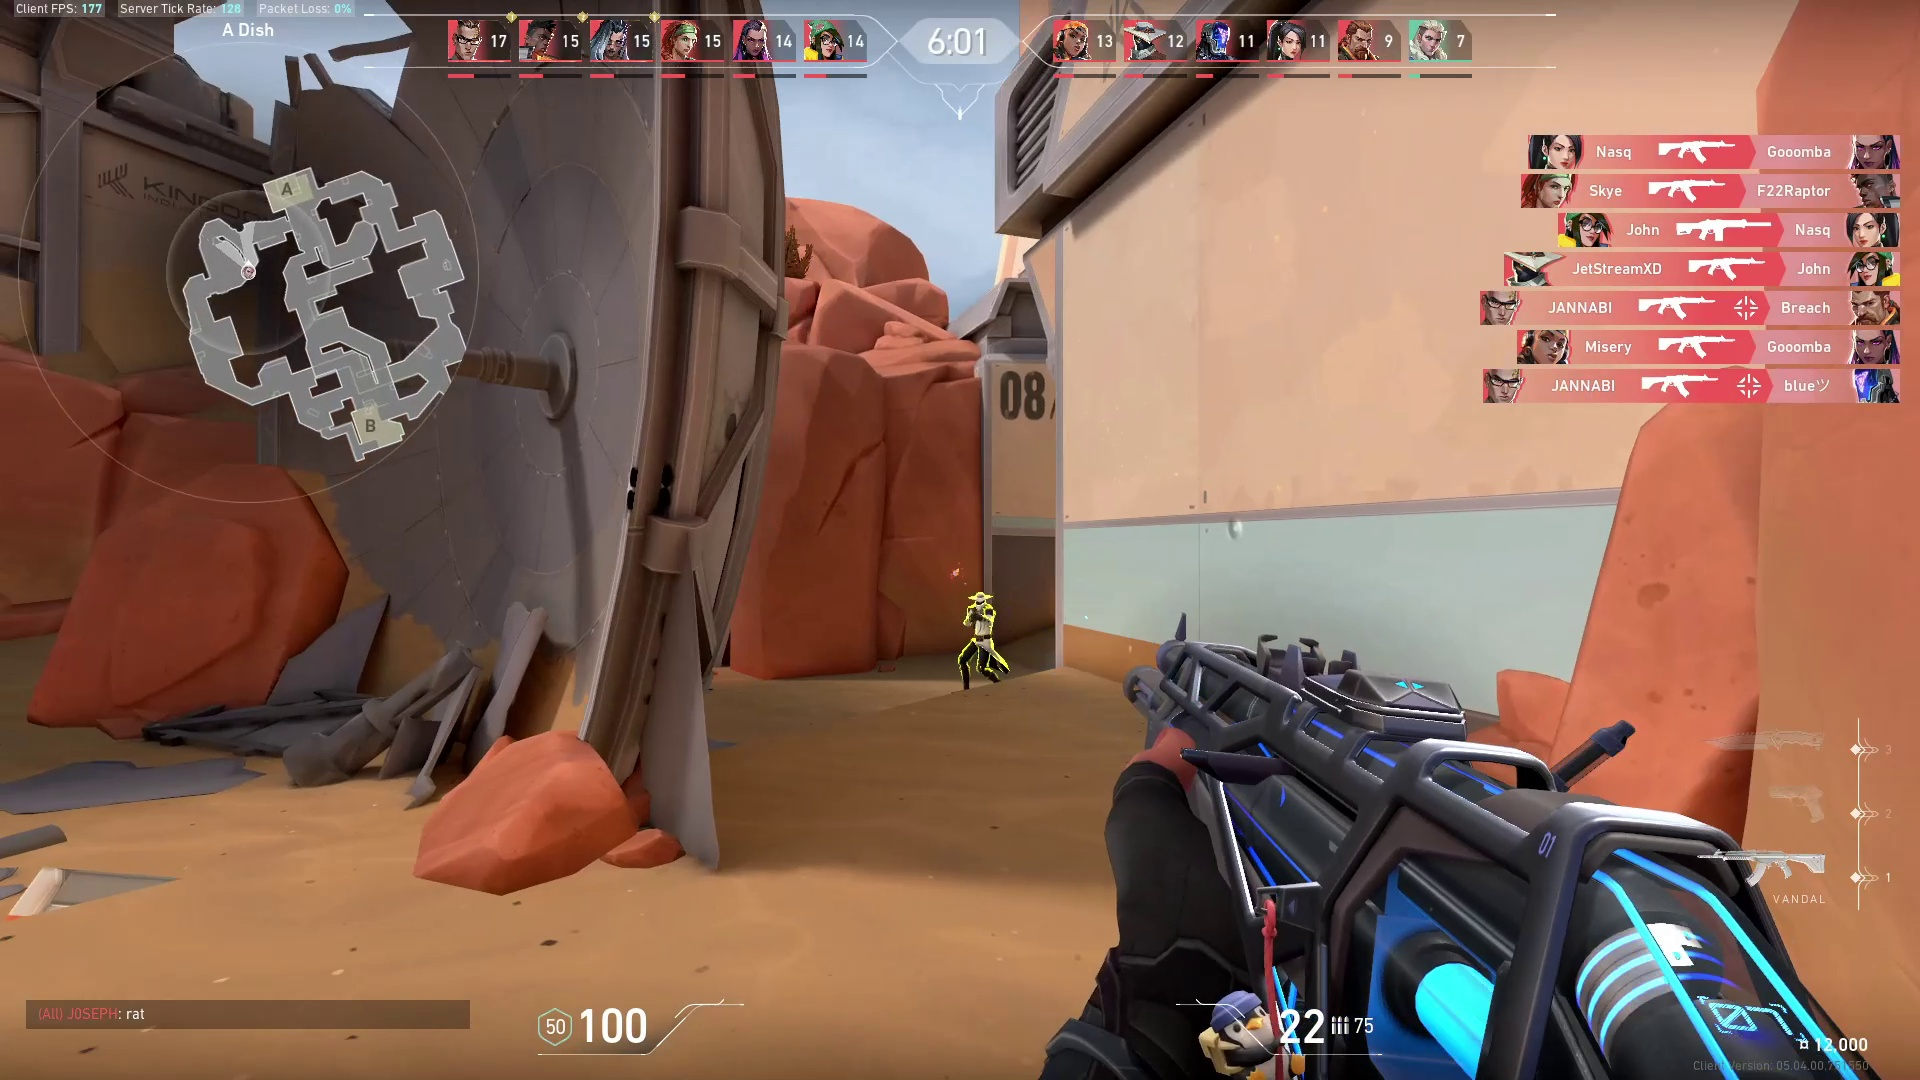enemy_body: (957, 607, 1010, 692)
enemy_head: (965, 585, 997, 612)
